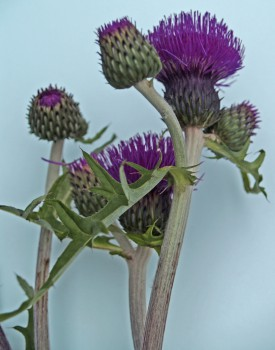thistle: (149, 19, 235, 127), (108, 139, 175, 233), (96, 21, 162, 86), (27, 84, 88, 142), (218, 100, 261, 155)
